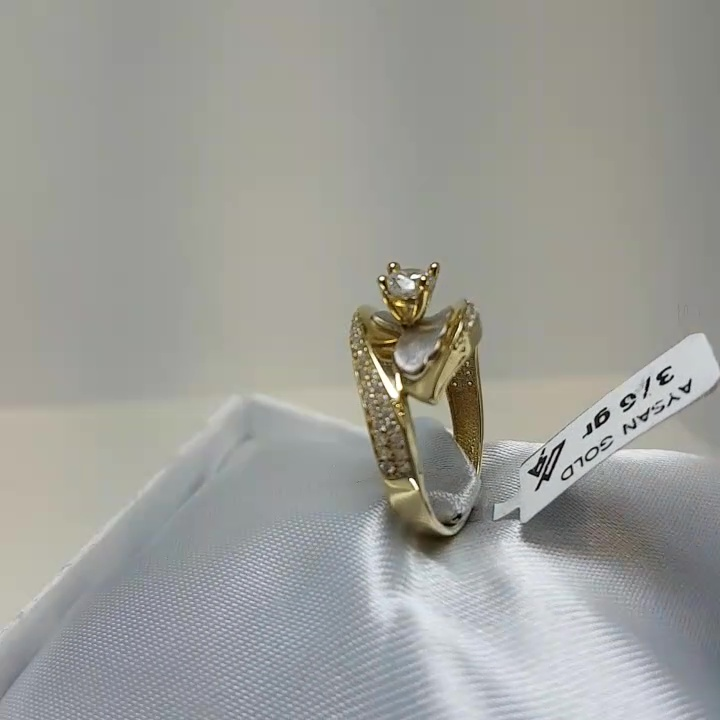Ring 6: (298, 240, 512, 547)
